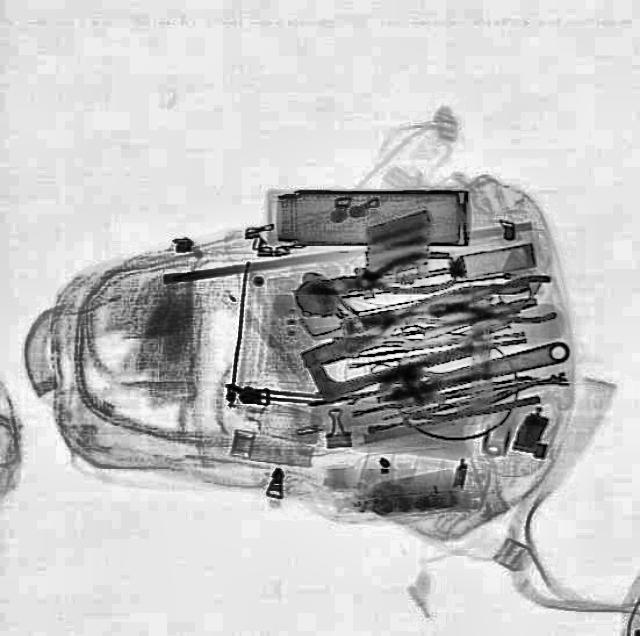Pliers: (296, 244, 456, 310), (422, 272, 556, 334)
Wrench: (371, 330, 573, 414)
